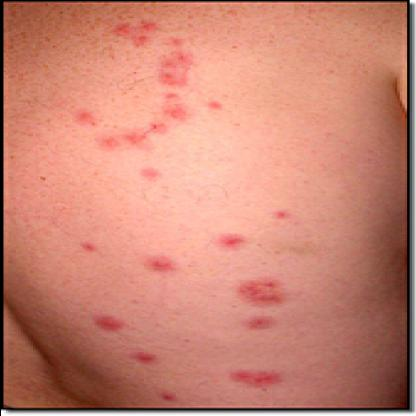Bed Bug: (66, 107, 146, 152), (155, 32, 199, 84), (145, 88, 187, 134), (226, 278, 286, 308), (220, 366, 286, 391), (101, 16, 155, 46), (132, 164, 172, 198), (116, 344, 165, 370), (84, 308, 124, 332), (136, 251, 178, 273), (204, 228, 246, 249), (236, 314, 278, 330), (69, 234, 98, 255), (150, 390, 180, 406), (263, 207, 290, 223), (200, 96, 222, 112)
